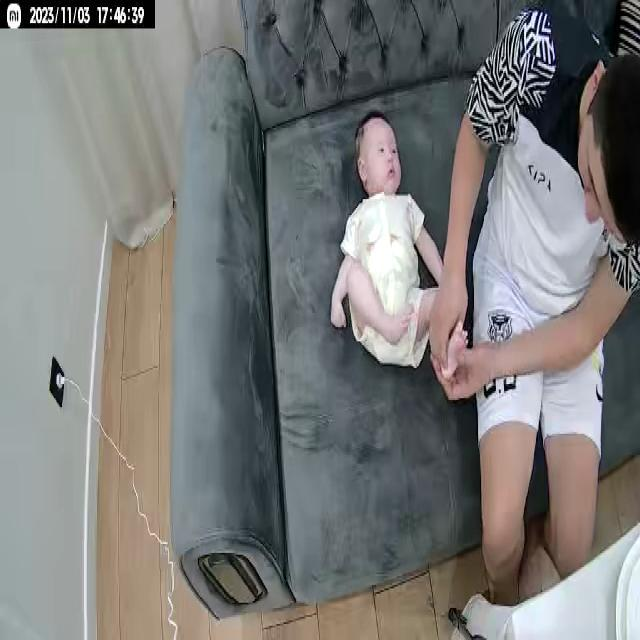baby: (330, 108, 470, 380)
